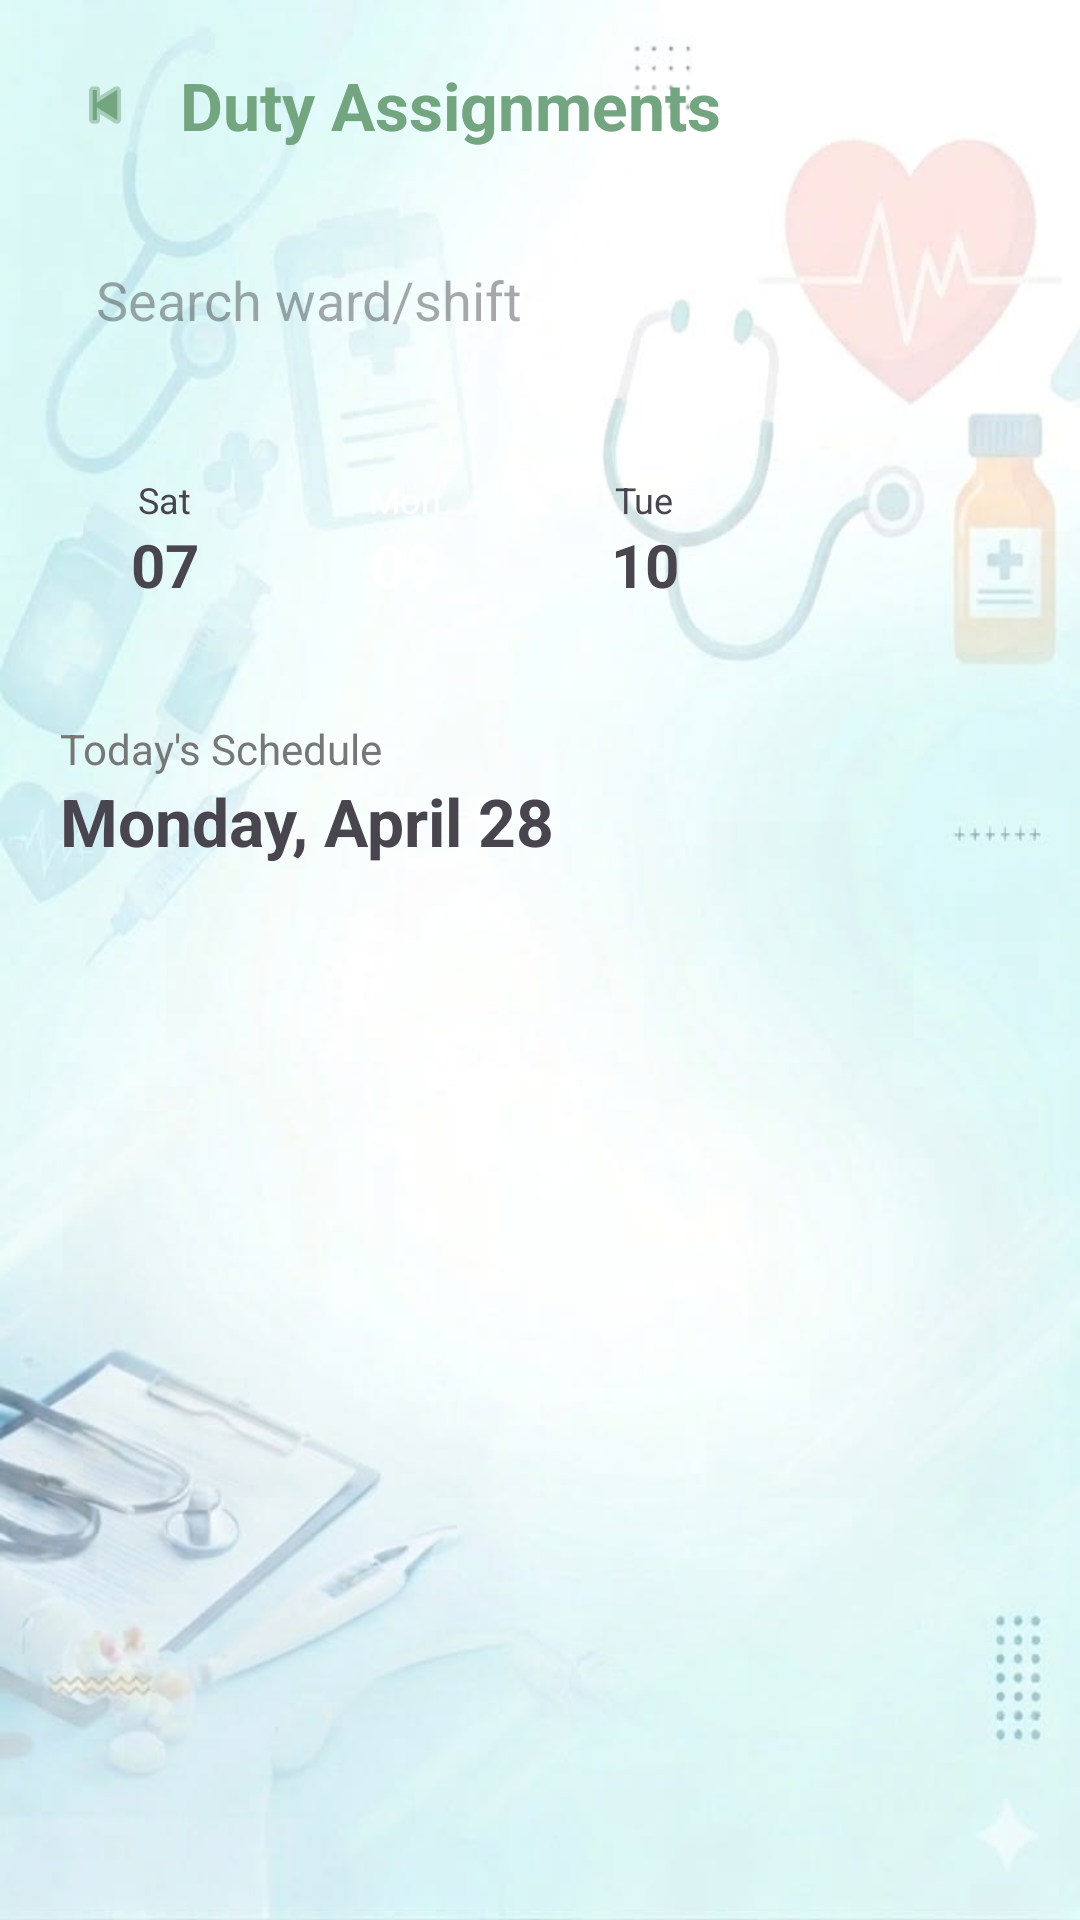

Where icons sit on this 1080x1920 app screen, as bbox=(x1, y1, x2, y2):
previous: bbox=(89, 86, 121, 124)
